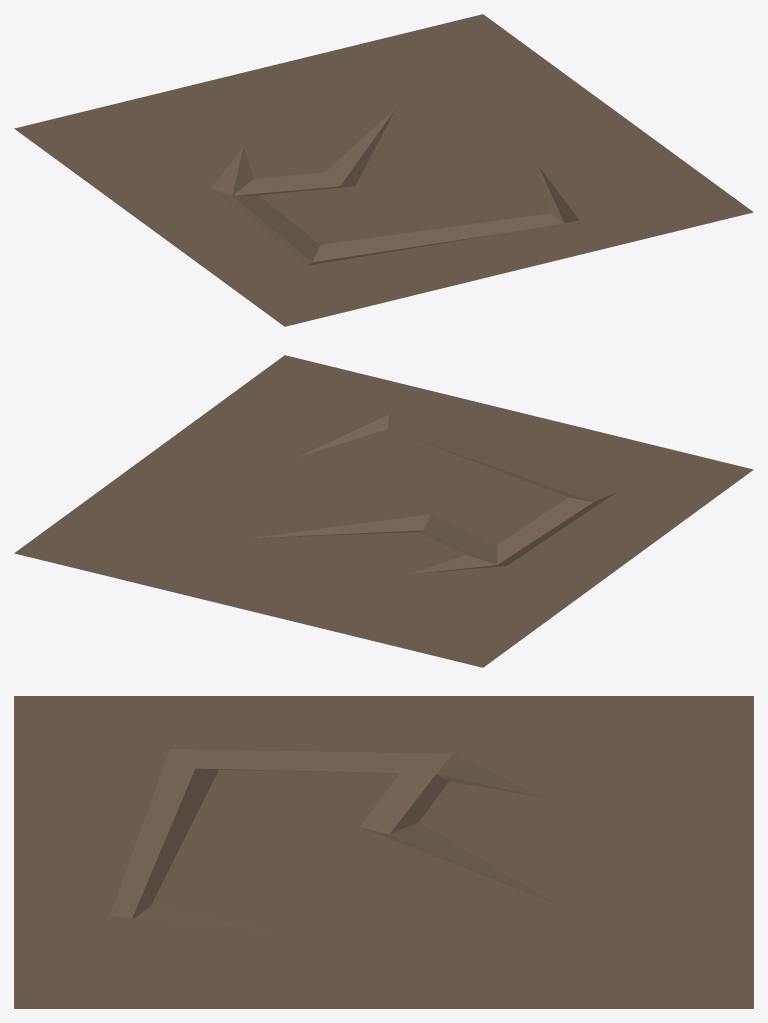
The model's file is LP_PostApoc_Road.fbx.
3 views of the same model, one above another, from view 1: azimuth 30°, elevation 25°; view 2: azimuth 150°, elevation 25°; view 3: azimuth 270°, elevation 25° (orthographic). The views are drawn at different scales.
Parts seen in each view (by area): view 1: Road; view 2: Road; view 3: Road.
Boxes of the visible parts, left/top/right/bottom form: Road: left=14, top=14, right=753, bottom=326; Road: left=14, top=355, right=753, bottom=667; Road: left=14, top=696, right=753, bottom=1008.
Size of the model in its own units: 400 by 5.79 by 400.
